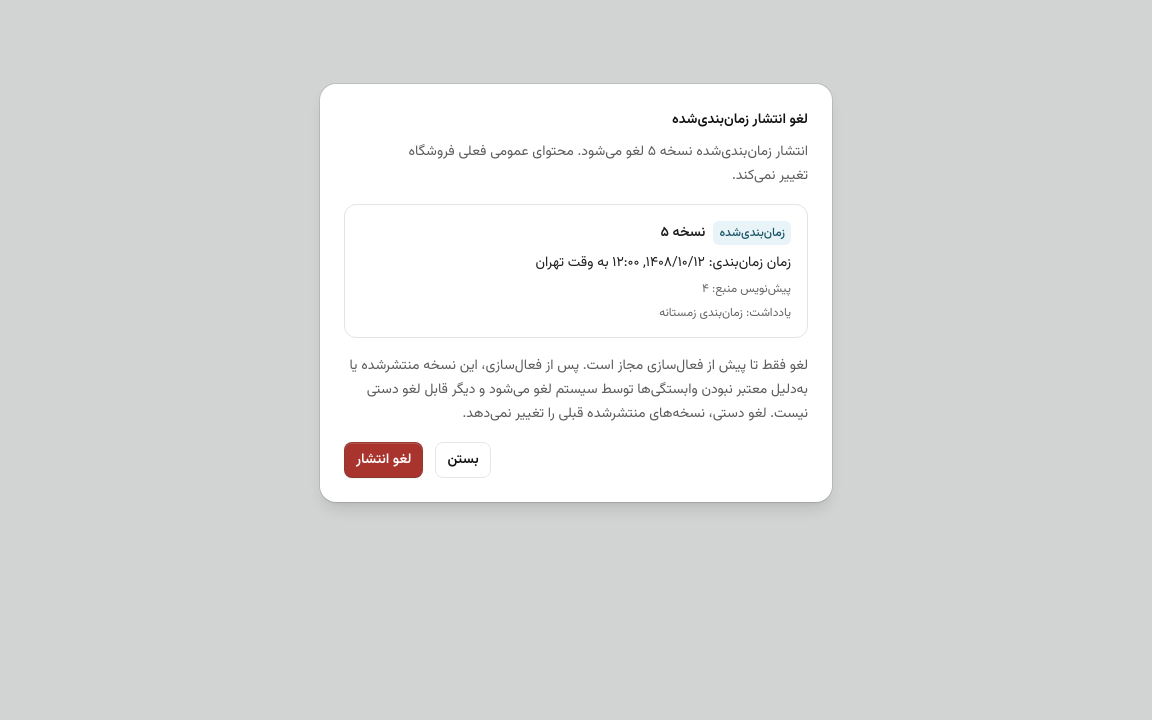
Test: HomepagePublicationCancelDialog (SS-280) › shows ambiguous failures without retrying or refreshing falsely
The width and height of the screenshot is (1152, 720).
Click the button "لغو انتشار".
click(384, 460)  # box 344,442 -> 423,478
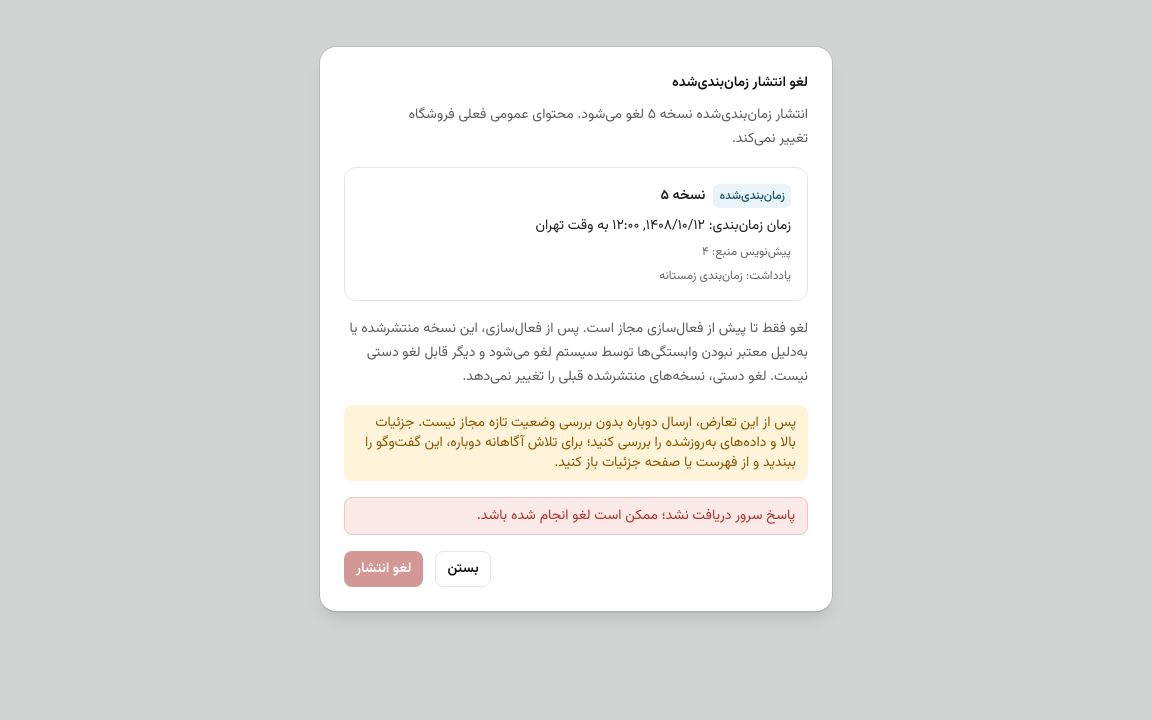
Now the text "پاسخ سرور دریافت نشد؛ ممکن است لغو انجام شده باشد." is shown, box 344,497 -> 808,535
Now the button "لغو انتشار" is disabled, box 344,551 -> 423,587
